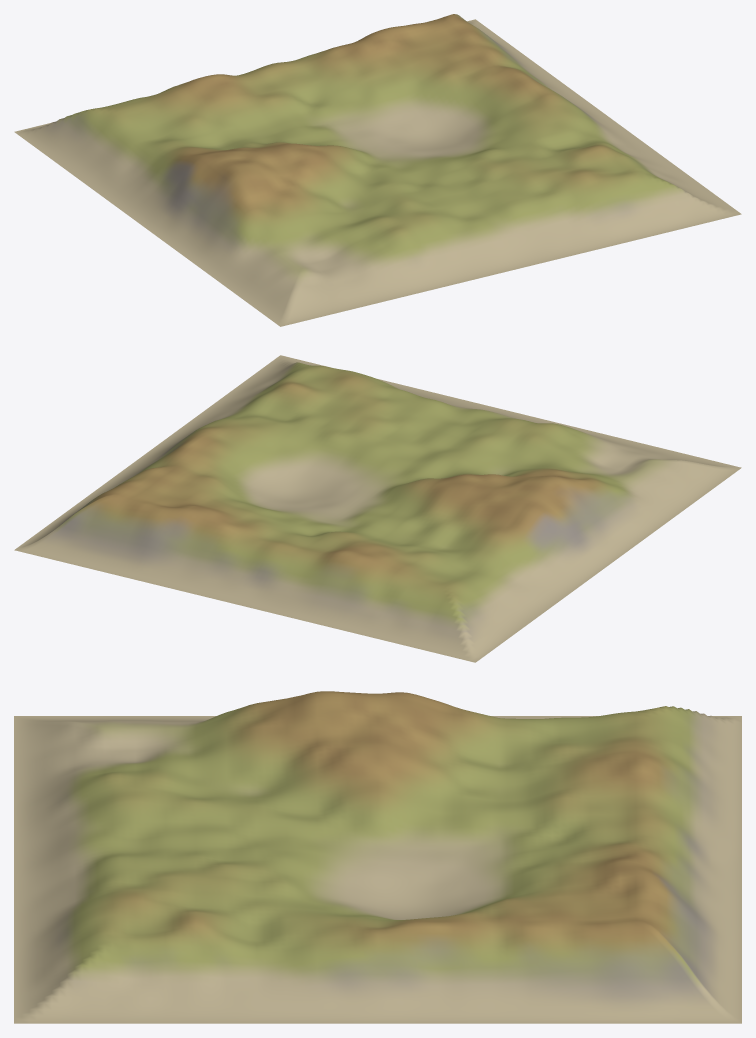
Rendered from autumn-terrain.gltf.
The picture shows the model from 3 angles, top to bottom: view 1: azimuth 30°, elevation 25°; view 2: azimuth 150°, elevation 25°; view 3: azimuth 270°, elevation 25°; orthographic projection. The views are drawn at different scales.
Parts seen in each view (by area): view 1: autumn-terrain; view 2: autumn-terrain; view 3: autumn-terrain.
Boxes of the visible parts, left/top/right/bottom form: autumn-terrain: left=14, top=14, right=741, bottom=326; autumn-terrain: left=14, top=355, right=741, bottom=662; autumn-terrain: left=14, top=691, right=741, bottom=1023.
Size of the model in its own units: 60 by 6.67 by 60.
